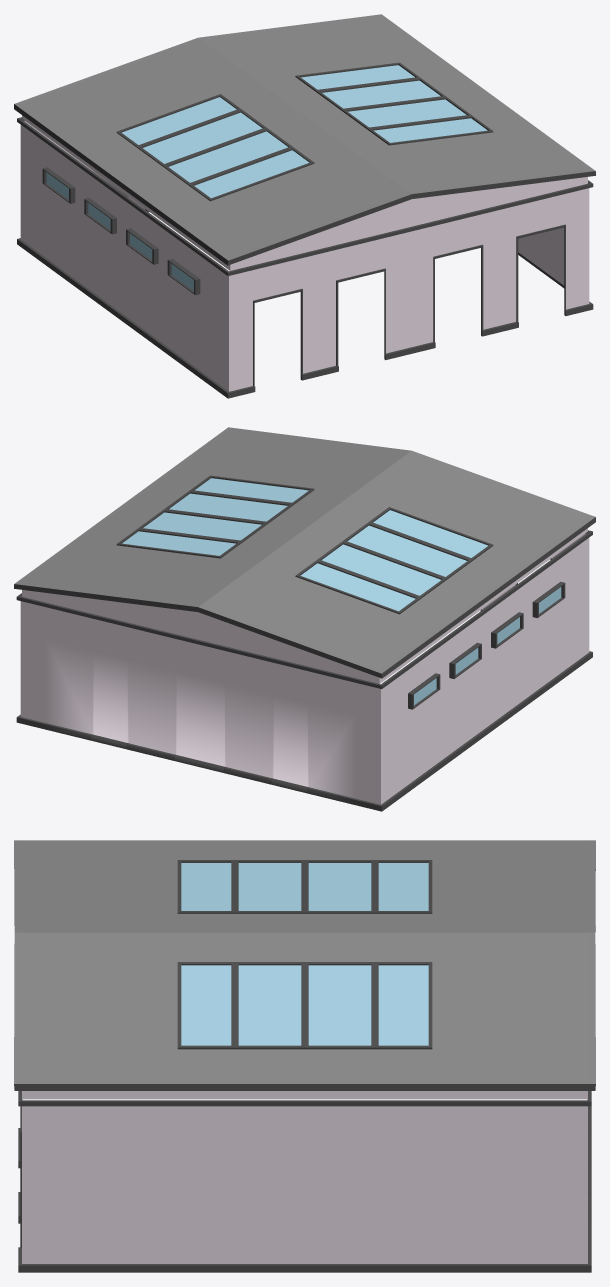
File: Usine.FBX
3 renders of one model, top to bottom at view 1: azimuth 30°, elevation 25°; view 2: azimuth 150°, elevation 25°; view 3: azimuth 270°, elevation 25°, orthographic. The views are drawn at different scales.
Parts seen in each view (by area): view 1: Usine; view 2: Usine; view 3: Usine.
Boxes of the visible parts, box(x1,y1,x2,y2) form: Usine: box(14, 14, 595, 398); Usine: box(14, 427, 595, 811); Usine: box(14, 840, 595, 1272).
Size of the model in its own units: 15.11 by 6.3 by 15.19.
